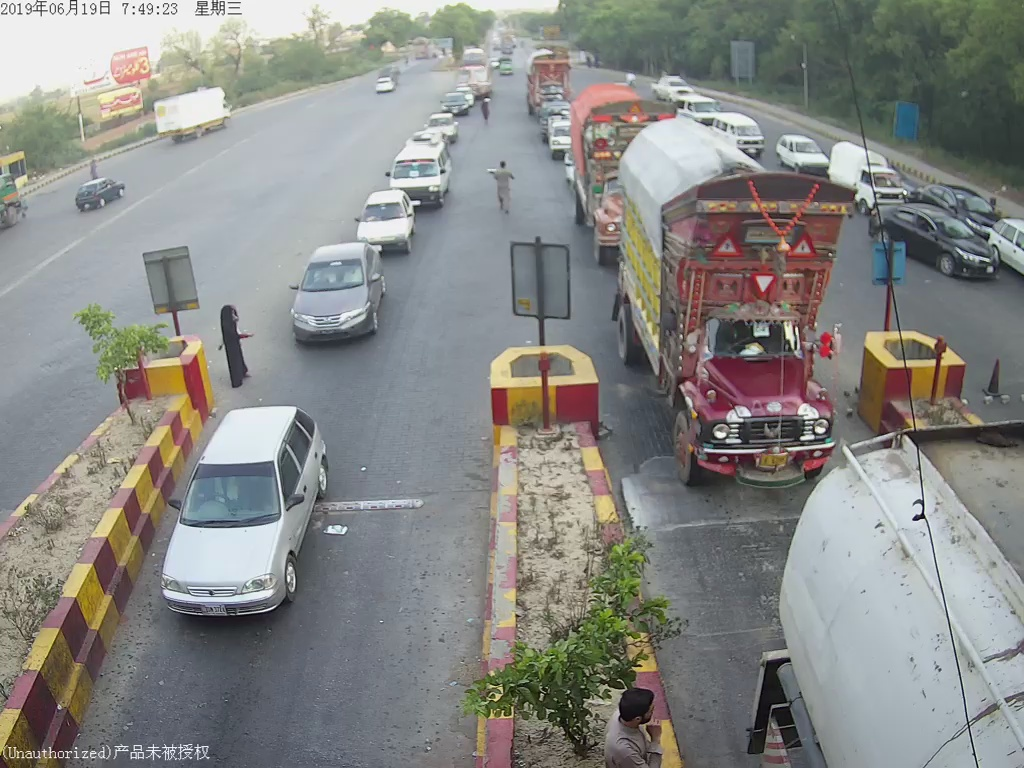Cat-1: (158, 403, 330, 622), (286, 240, 388, 345), (346, 186, 417, 251)
Cat-2: (383, 133, 457, 206)
Cat-4: (616, 111, 852, 491), (565, 81, 657, 259)
